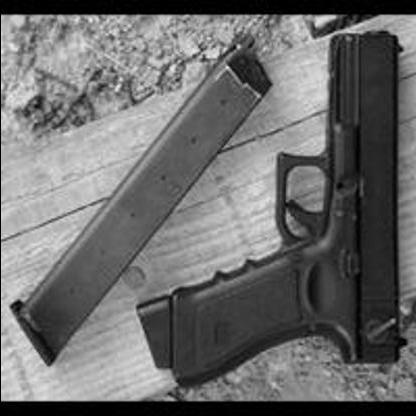weapon: (136, 25, 407, 398)
